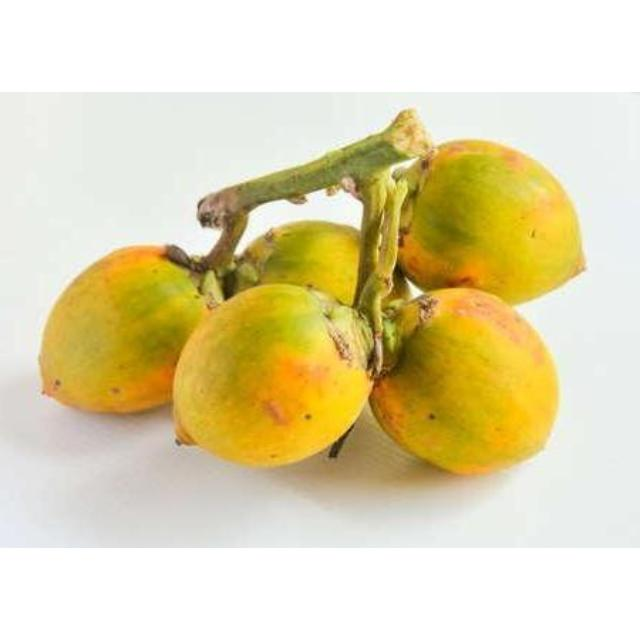good: (172, 284, 377, 469), (368, 287, 560, 477), (398, 140, 589, 307), (37, 247, 208, 415)
